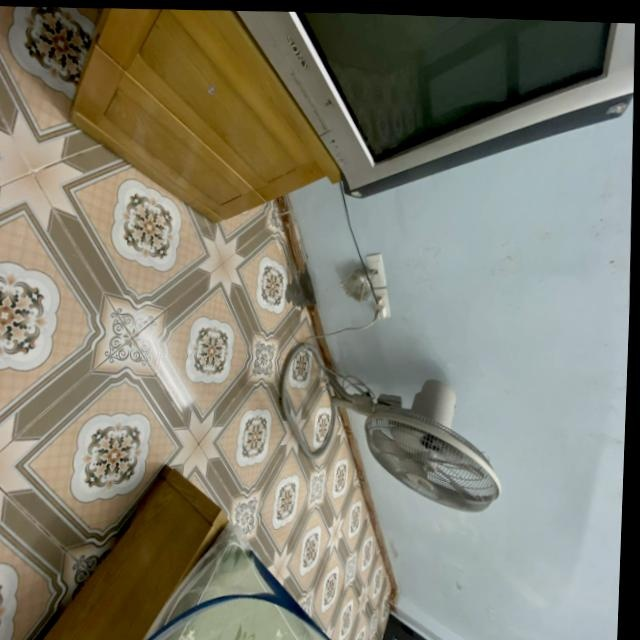outlet: (363, 252, 386, 287), (369, 287, 391, 319)
